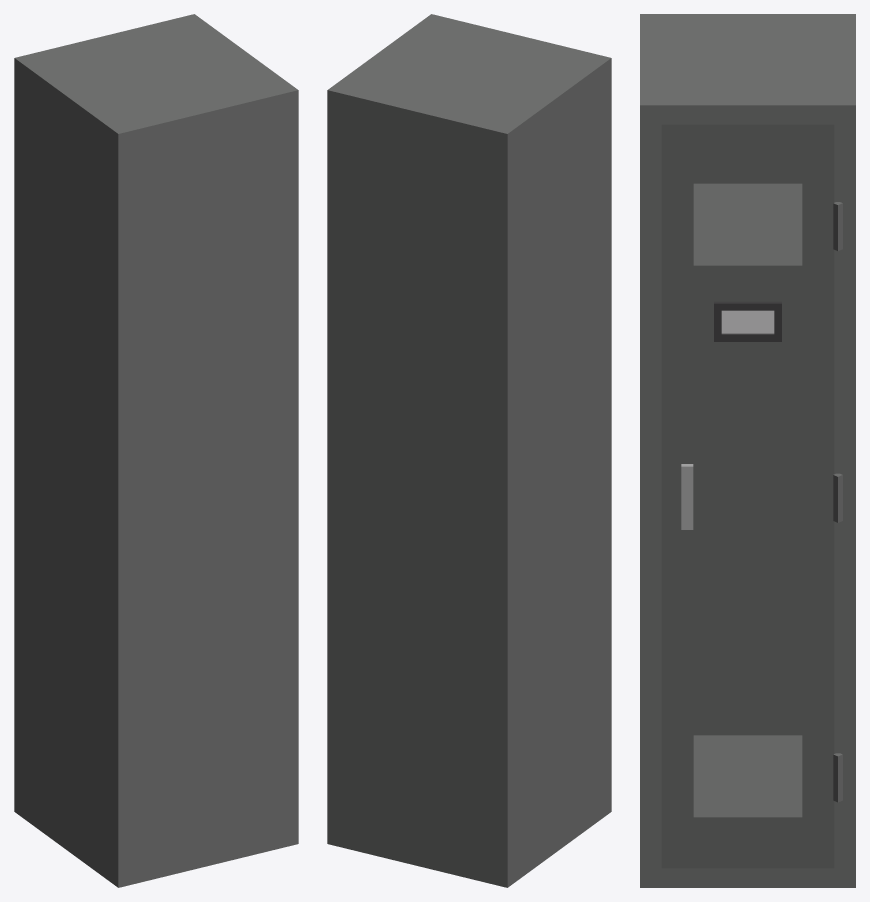
Rendered from SM_Locker_01.glb.
The picture shows the model from 3 angles, left to right: view 1: azimuth 30°, elevation 25°; view 2: azimuth 150°, elevation 25°; view 3: azimuth 270°, elevation 25°; orthographic projection. The views are drawn at different scales.
Parts seen in each view (by area): view 1: SM_Locker_01; view 2: SM_Locker_01; view 3: SM_Locker_01.
Part boxes in pixels (left/top/right/bottom): SM_Locker_01: left=14, top=14, right=298, bottom=887; SM_Locker_01: left=327, top=14, right=611, bottom=887; SM_Locker_01: left=640, top=14, right=855, bottom=887.
Bounding box in the file's own units: 0.5243 × 2 × 0.5.
Materials: 1 (1 with a texture image).
